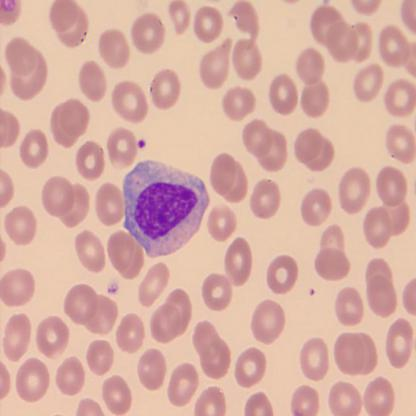Metamyelocyte: (120, 158, 212, 260)
